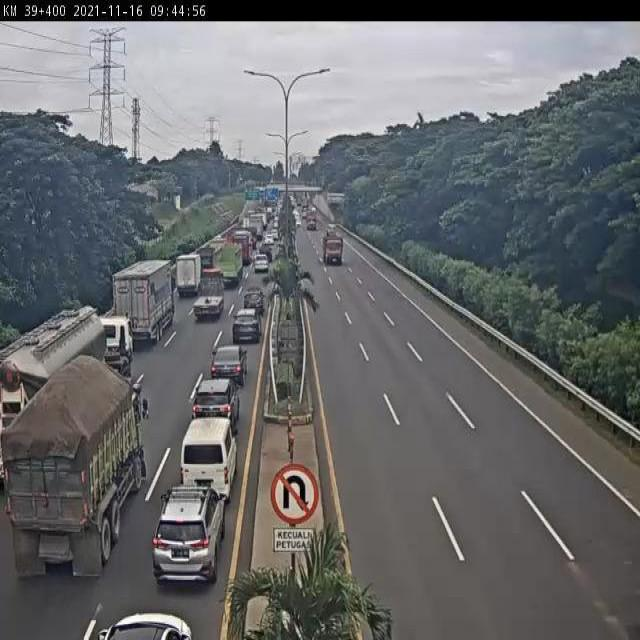car: (152, 488, 224, 584), (180, 419, 235, 500), (188, 382, 236, 446), (207, 345, 244, 388), (229, 309, 261, 348), (240, 290, 267, 322), (249, 250, 270, 278)
small truck: (169, 252, 200, 300)
truck-l-: (0, 364, 152, 576), (112, 258, 179, 346), (211, 240, 247, 292)
truck-m-: (191, 270, 226, 326)
truck-xl-: (0, 310, 132, 450)
